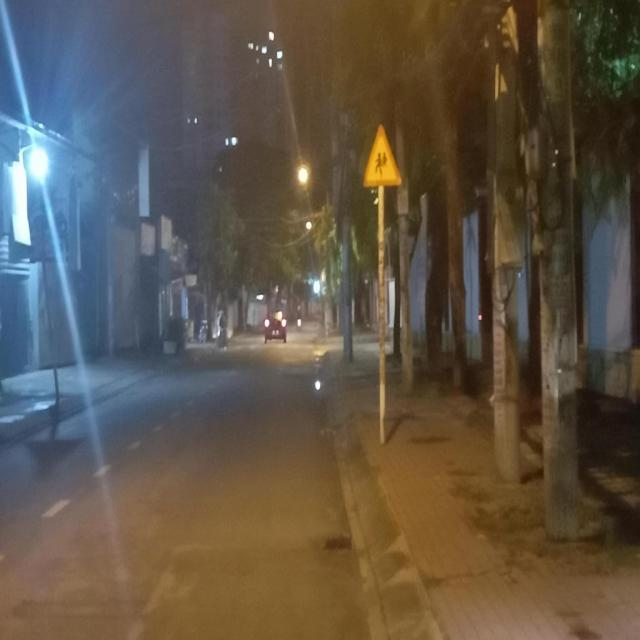chu_y_tre_em: (362, 119, 404, 188)
